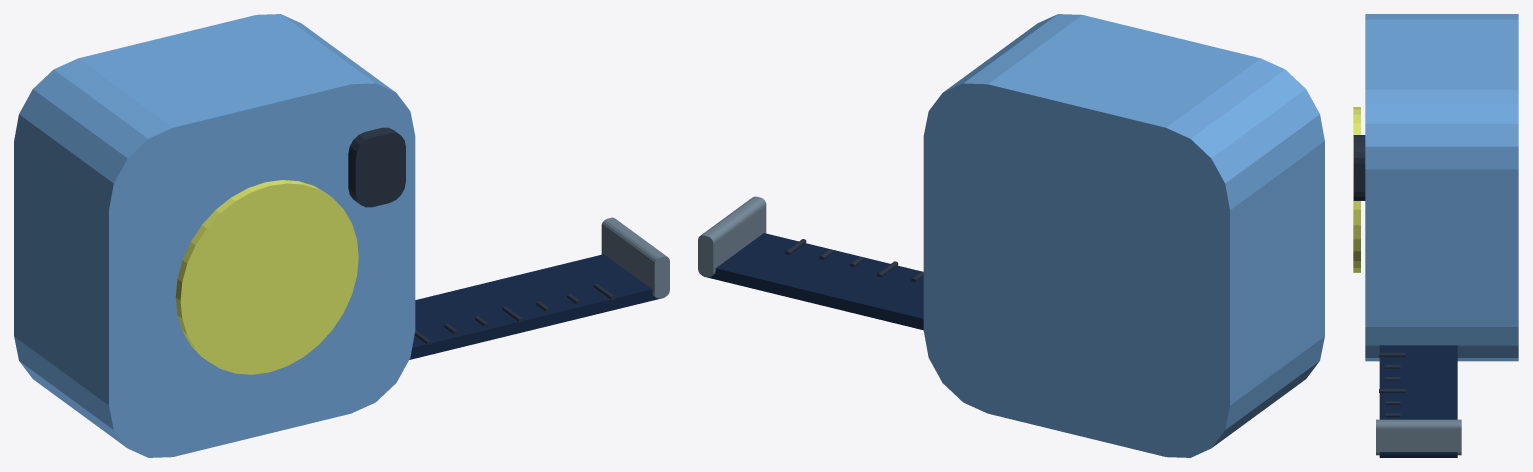
Rendered from taperule.glb.
The picture shows the model from 3 angles, left to right: view 1: azimuth 30°, elevation 25°; view 2: azimuth 150°, elevation 25°; view 3: azimuth 270°, elevation 25°; orthographic projection. The views are drawn at different scales.
Parts seen in each view (by area): view 1: housing, case inset, blade, lock button, end hook; view 2: housing, blade, end hook; view 3: housing, blade, end hook, case inset, lock button.
Part boxes in pixels (bbox=[...]): housing: bbox=[14, 14, 415, 457]; case inset: bbox=[175, 180, 358, 374]; blade: bbox=[409, 254, 664, 359]; lock button: bbox=[348, 127, 405, 207]; end hook: bbox=[601, 217, 669, 298]; housing: bbox=[923, 14, 1324, 457]; blade: bbox=[703, 233, 923, 330]; end hook: bbox=[698, 196, 766, 277]; housing: bbox=[1365, 14, 1518, 361]; blade: bbox=[1379, 345, 1457, 457]; end hook: bbox=[1376, 419, 1461, 455]; case inset: bbox=[1353, 107, 1360, 272]; lock button: bbox=[1353, 135, 1365, 200].
Bounding box in the file's own units: 2.04 × 1.13 × 0.637.
